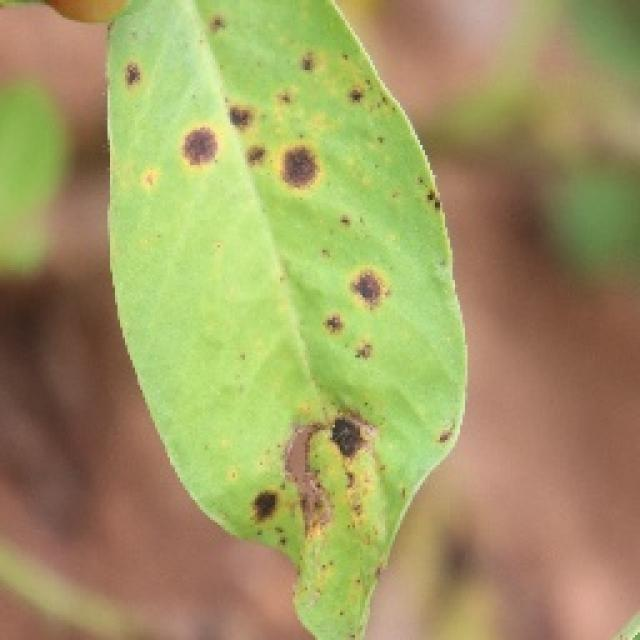Yellowish: (107, 12, 480, 624)
